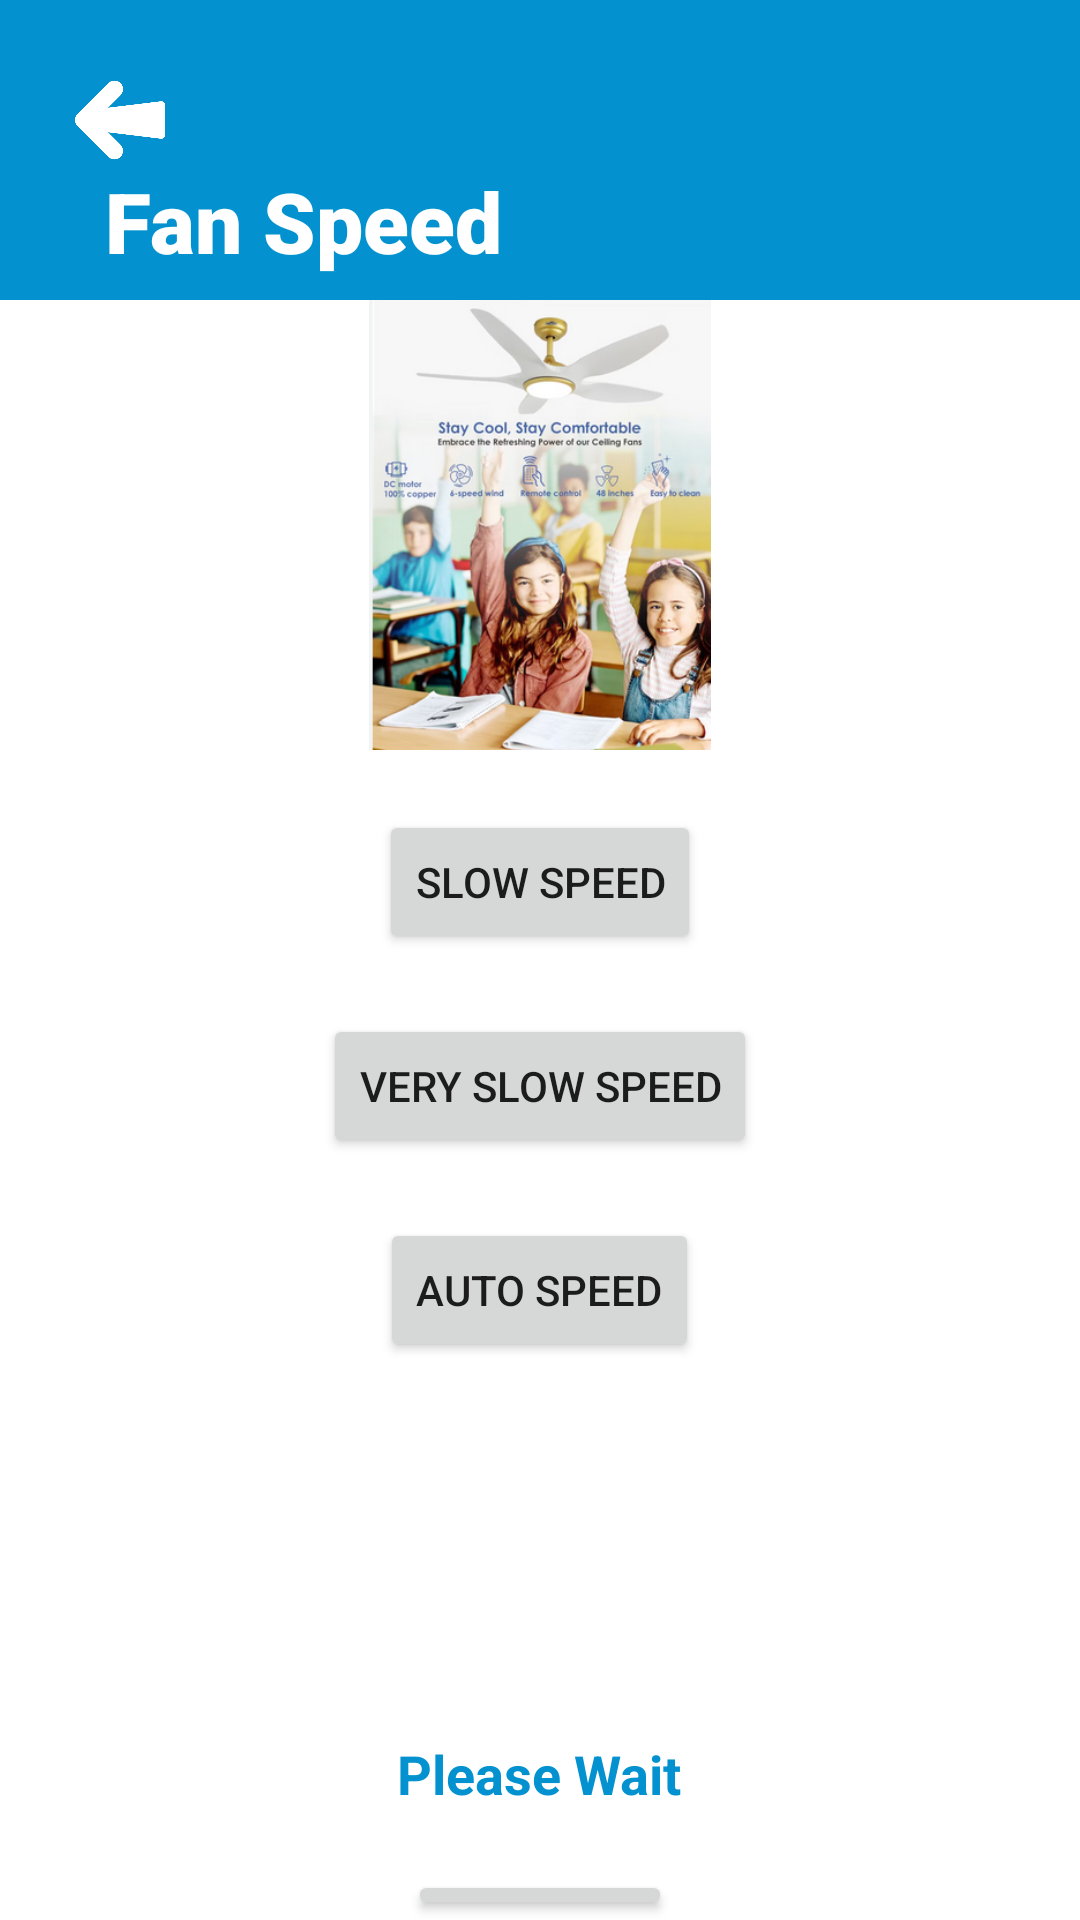

Named icons in this screenshot (1080×1920) and their centers, [x,y]:
back arrow: [120,120]
